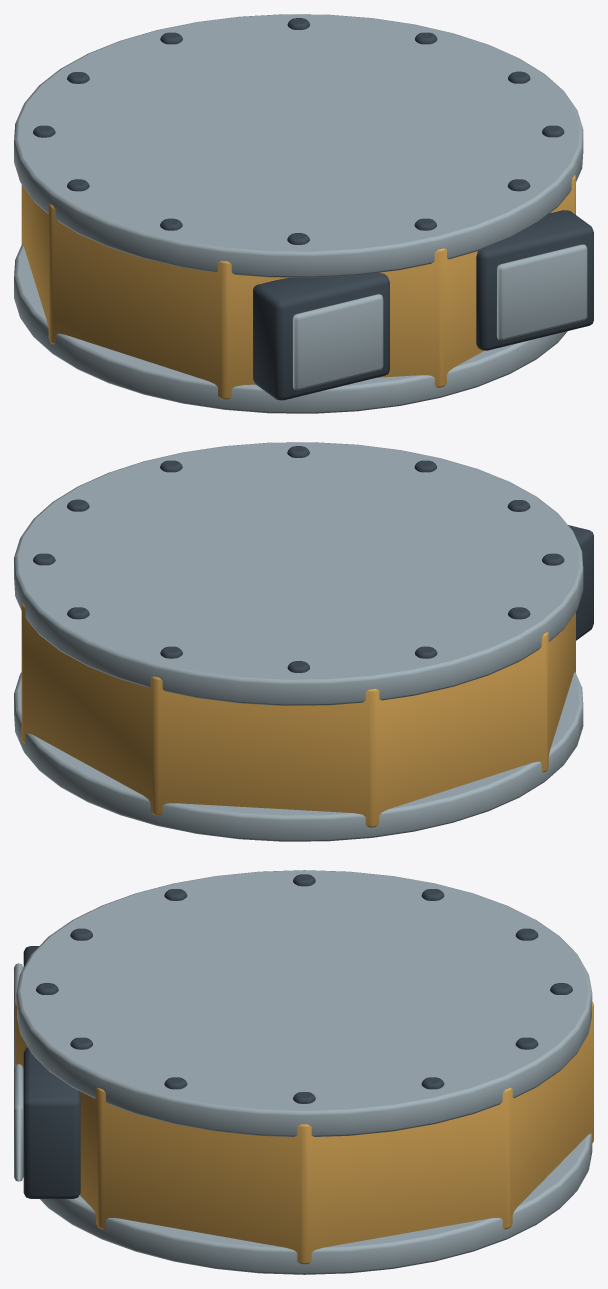
The model's file is probe.glb.
3 views of the same model, one above another, from view 1: azimuth 30°, elevation 25°; view 2: azimuth 150°, elevation 25°; view 3: azimuth 270°, elevation 25° (orthographic).
Parts seen in each view (by area): view 1: Octagonal avionics; view 2: Octagonal avionics; view 3: Octagonal avionics.
Boxes of the visible parts, x1=… form: Octagonal avionics: x1=14, y1=14, x2=593, y2=413; Octagonal avionics: x1=14, y1=442, x2=593, y2=841; Octagonal avionics: x1=14, y1=870, x2=593, y2=1274.
Bounding box in the file's own units: 1.25 × 0.4 × 1.25.
